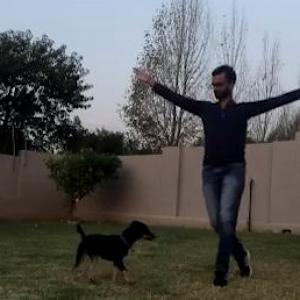takeoff: (125, 46, 299, 290)
